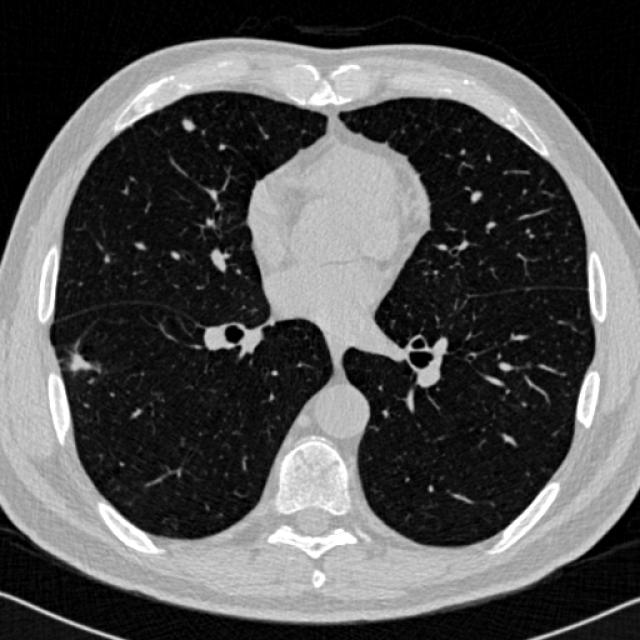nodule: (175, 112, 200, 136)
